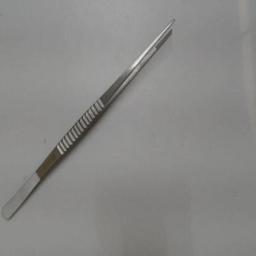DeBakey Dissector: (1, 4, 193, 226)
